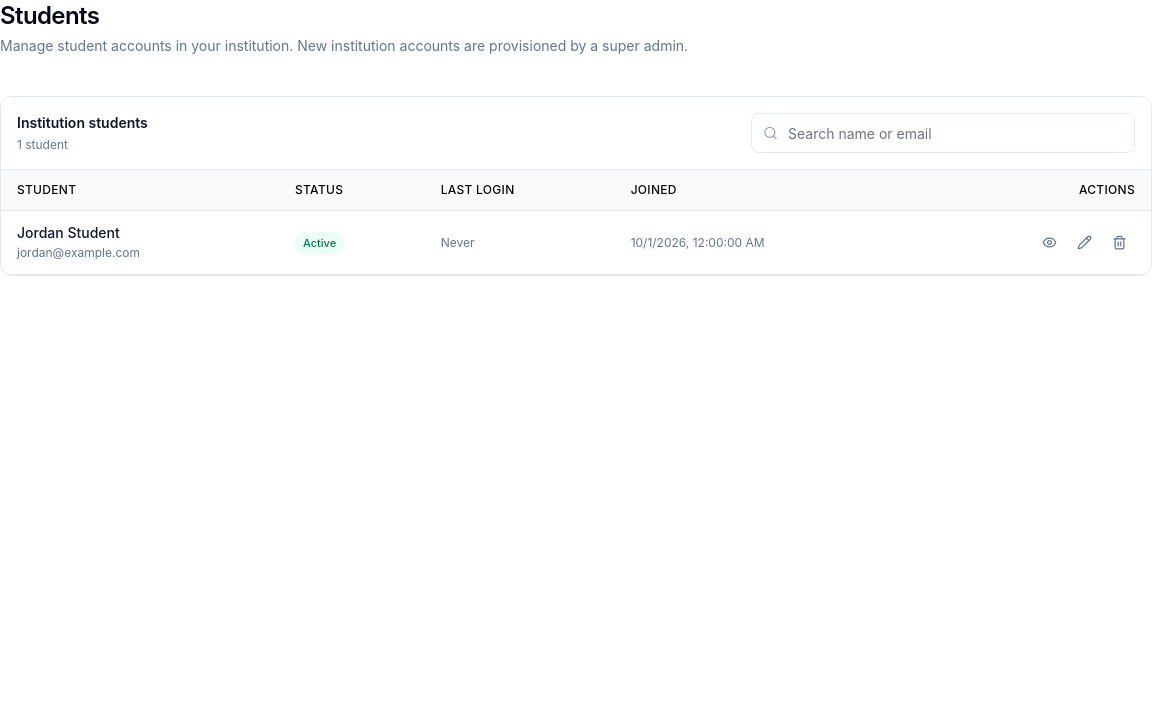
Test: Institution students › shows the institution roster and lets an admin read a student record
Expected: the text "Jordan Student" is shown, [17,224,120,241]
Expected: the text "jordan@example.com" is shown, [17,245,140,261]
Click the button named "View Jordan Student": (1050, 242) [1034,227,1065,258]
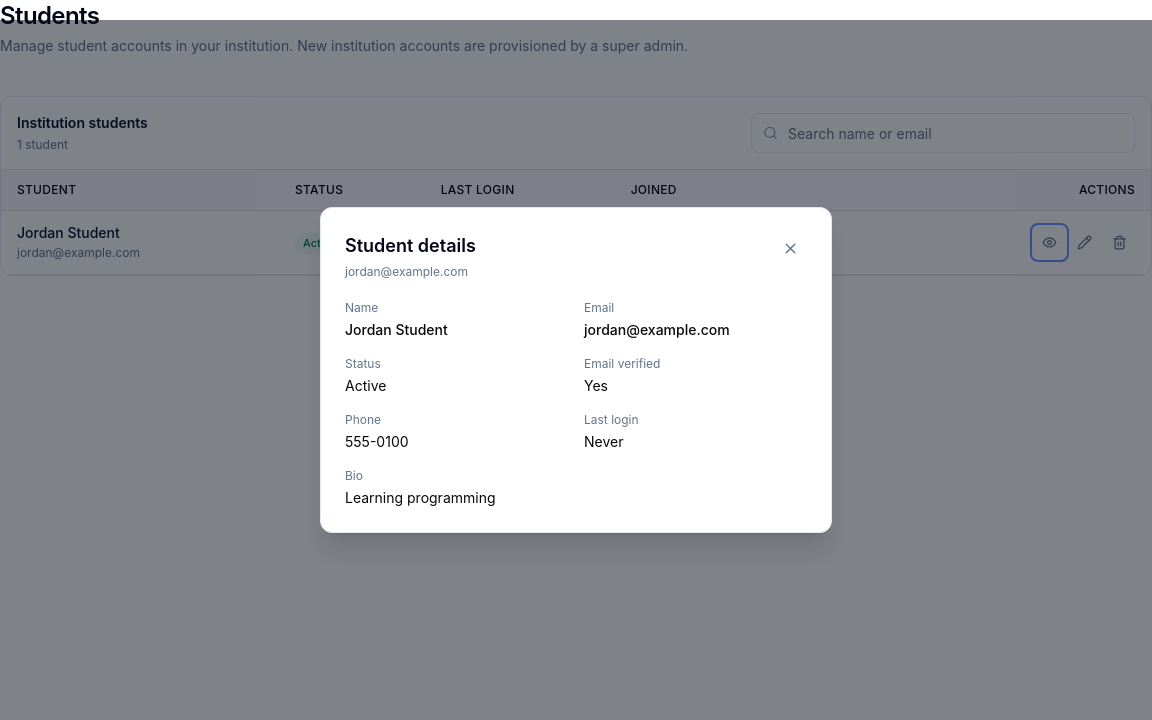
Expected: the text "Learning programming" is shown, [345,489,496,506]
